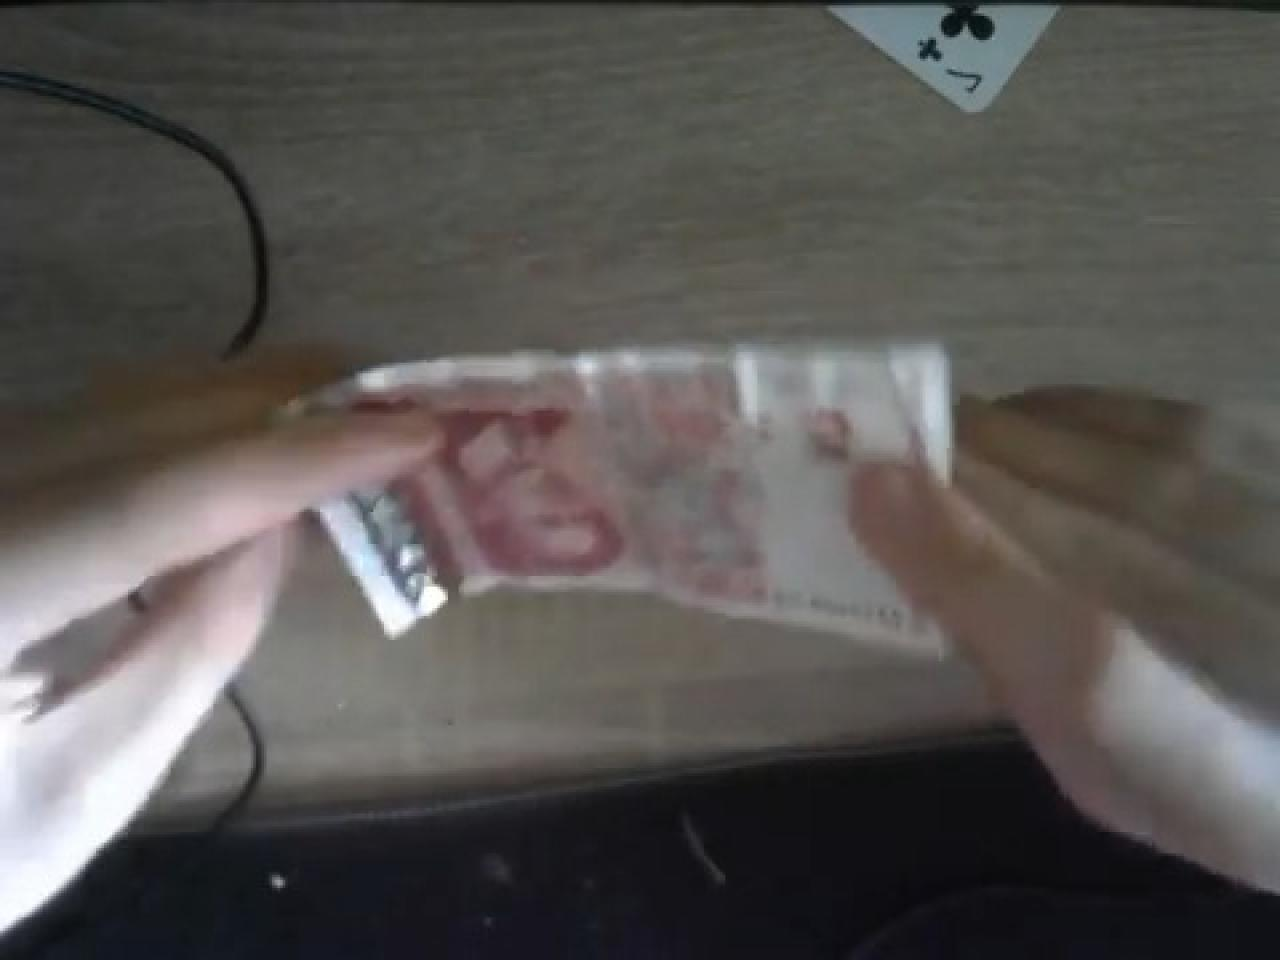5leva: (403, 392, 629, 579)
